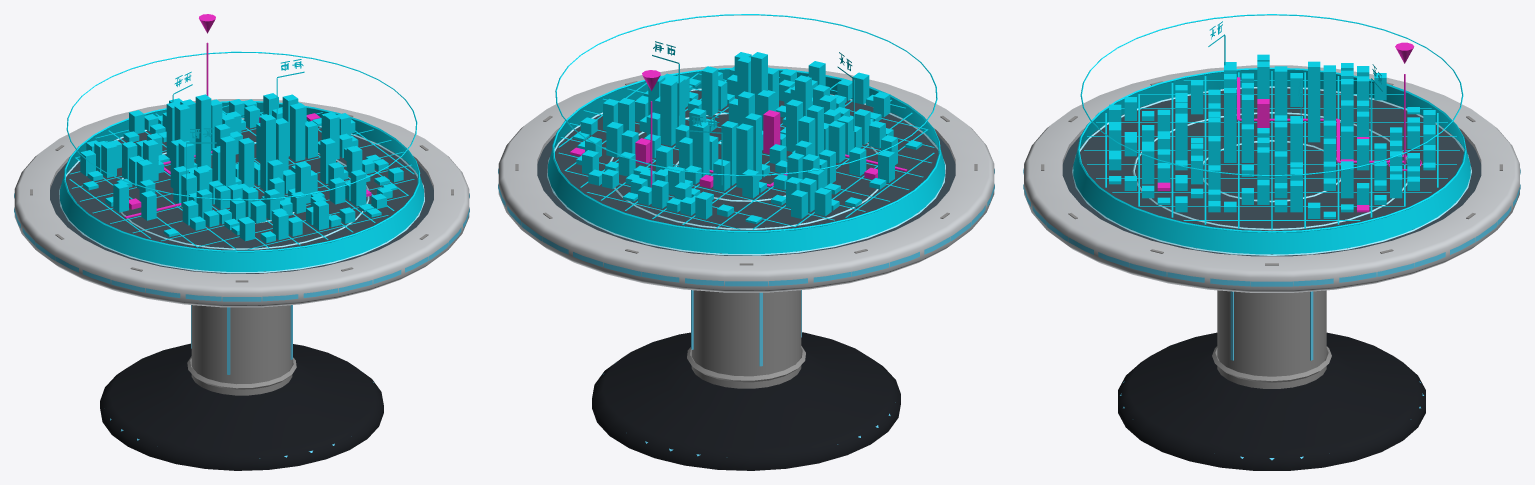
Rendered from Holo_Table.fbx.
The picture shows the model from 3 angles, left to right: view 1: azimuth 30°, elevation 25°; view 2: azimuth 150°, elevation 25°; view 3: azimuth 270°, elevation 25°; orthographic projection. The views are drawn at different scales.
Parts seen in each view (by area): view 1: Holo_Table_LOD0; view 2: Holo_Table_LOD0; view 3: Holo_Table_LOD0.
Part boxes in pixels (x1=…): Holo_Table_LOD0: x1=14, y1=14, x2=469, y2=470; Holo_Table_LOD0: x1=498, y1=14, x2=994, y2=470; Holo_Table_LOD0: x1=1023, y1=14, x2=1520, y2=470.
Size of what is drawn, in the model's own units: 1.8 by 1.49 by 1.8.
